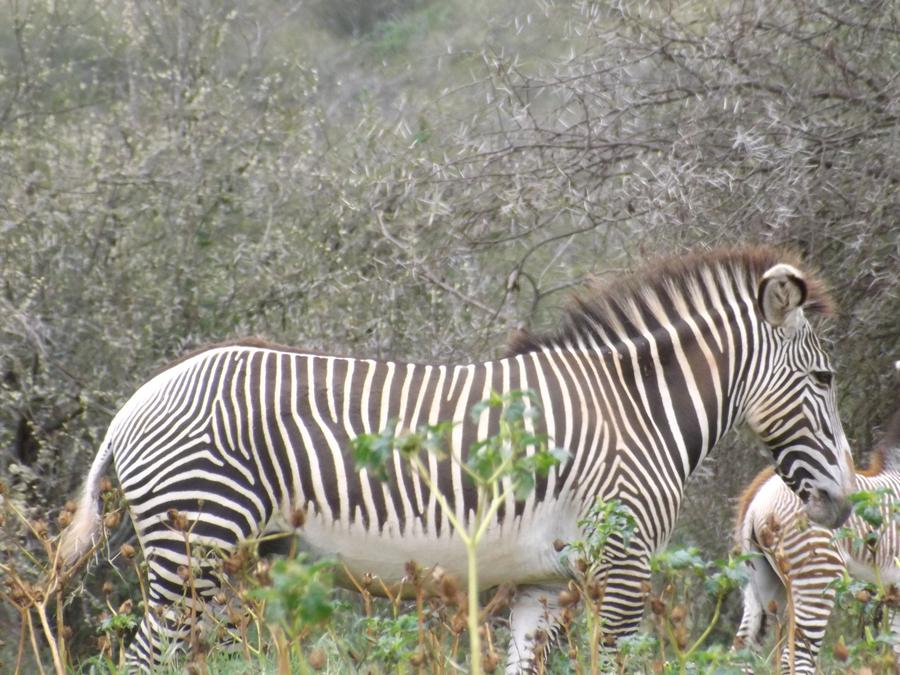zebra_grevys: (106, 320, 672, 554)
